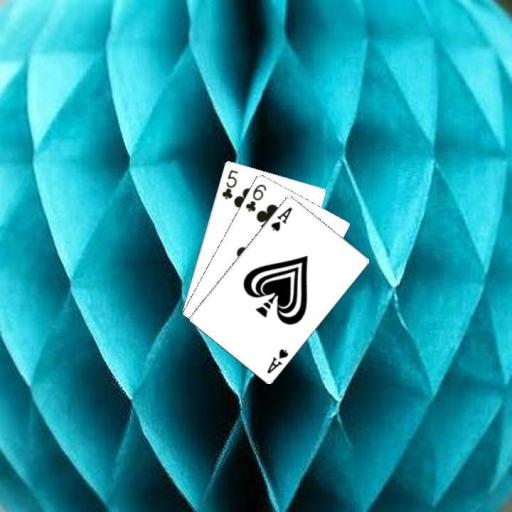5C: (218, 167, 239, 201)
6C: (242, 181, 268, 213)
AS: (267, 204, 294, 233), (264, 345, 290, 375)
